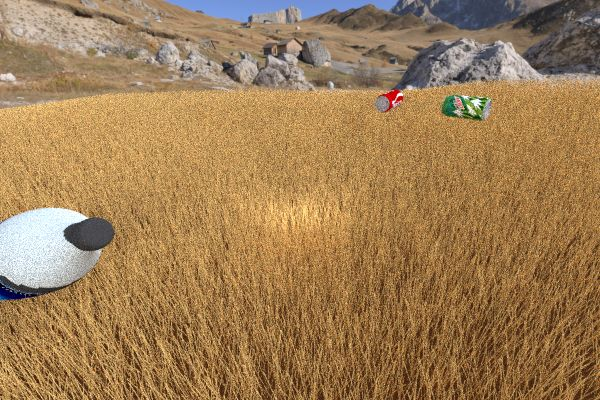Plastic Bottle: (0, 207, 114, 304), (441, 94, 491, 120), (375, 89, 403, 112)
